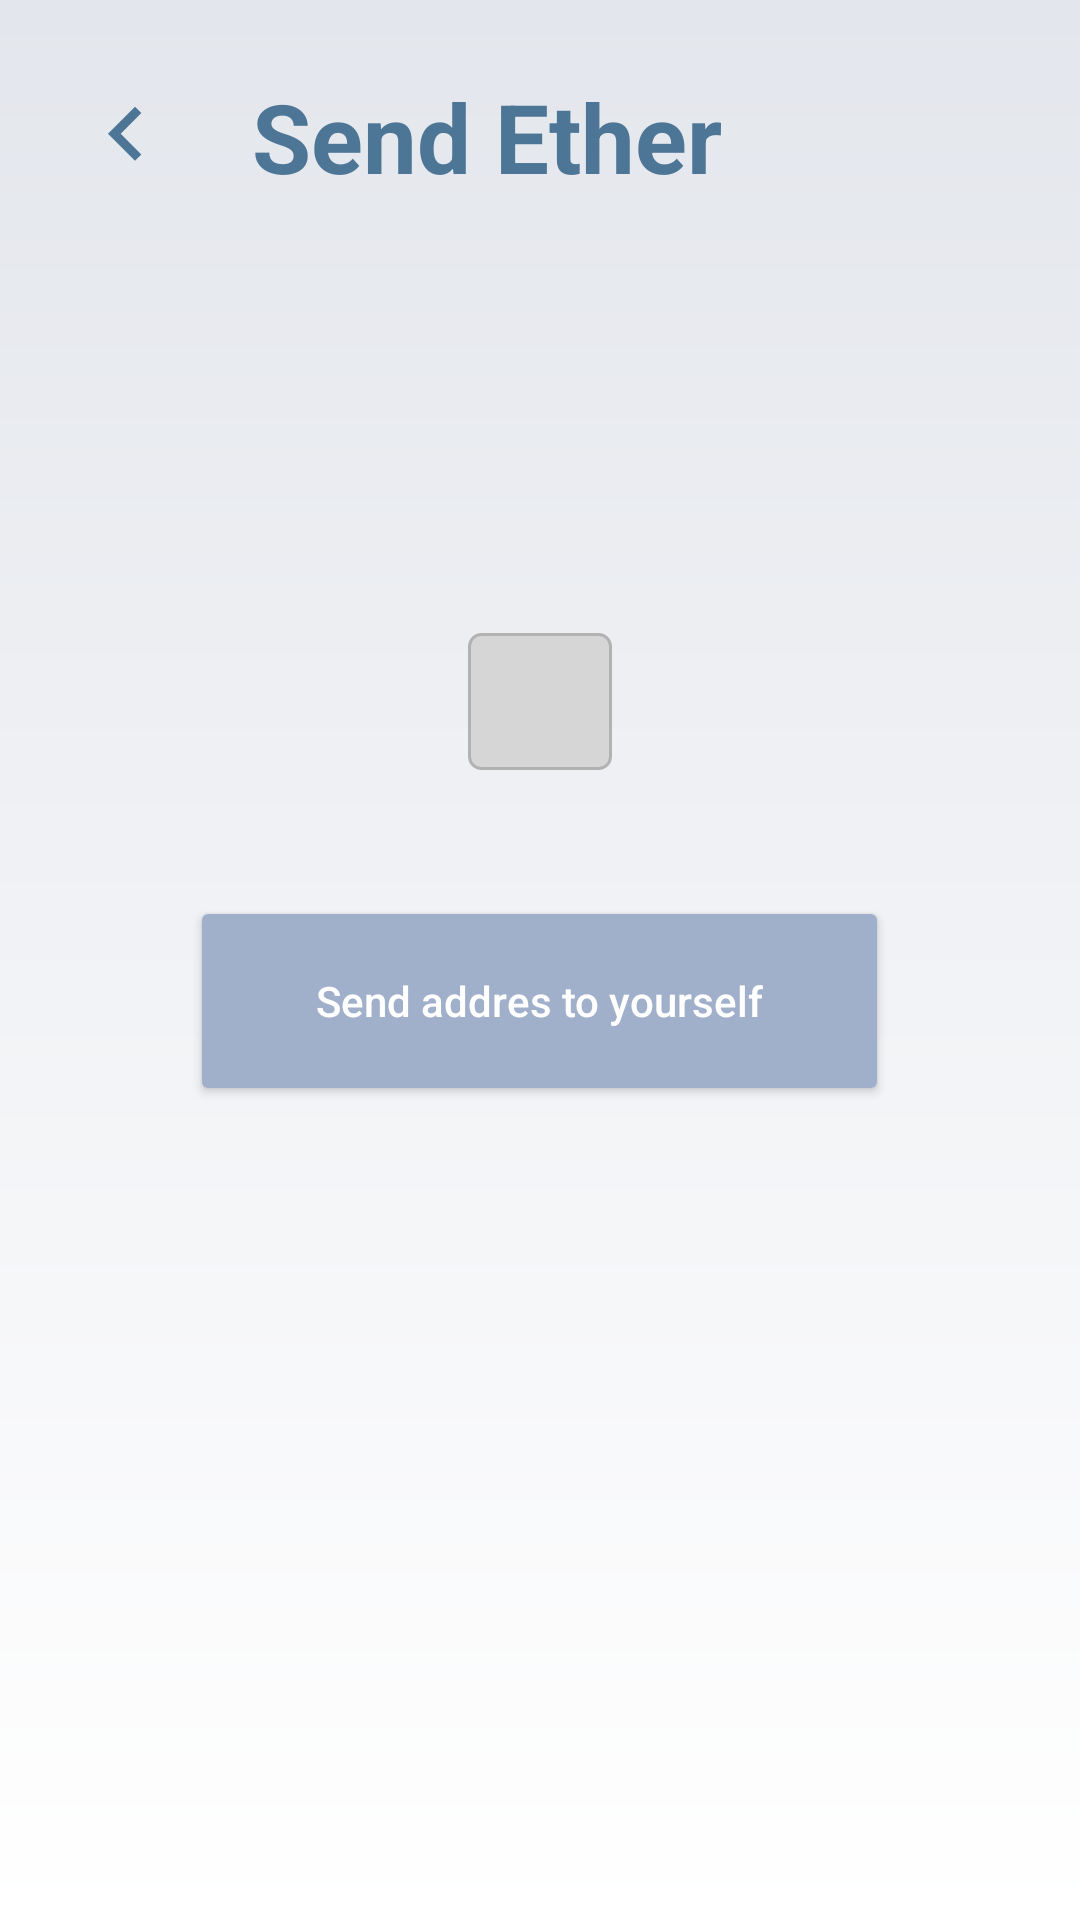

Icons on this 1080px×1920px Android screen, each with the point to tap as point (x, y):
keyboard arrow left: point (124, 134)
